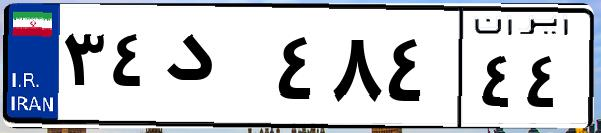3: (57, 26, 110, 100)
4: (270, 28, 330, 110), (385, 28, 445, 110), (475, 38, 525, 113), (525, 38, 570, 115), (110, 28, 158, 98)
8: (330, 28, 385, 110)
د: (158, 20, 270, 120)
